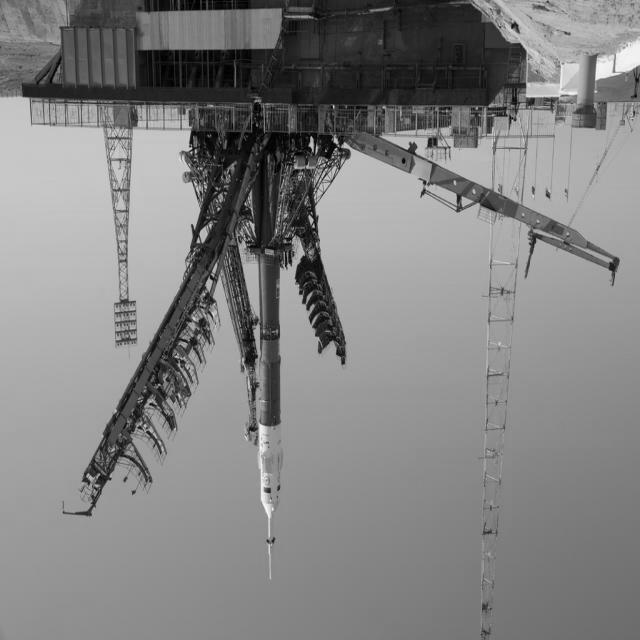missile: (254, 144, 292, 526)
